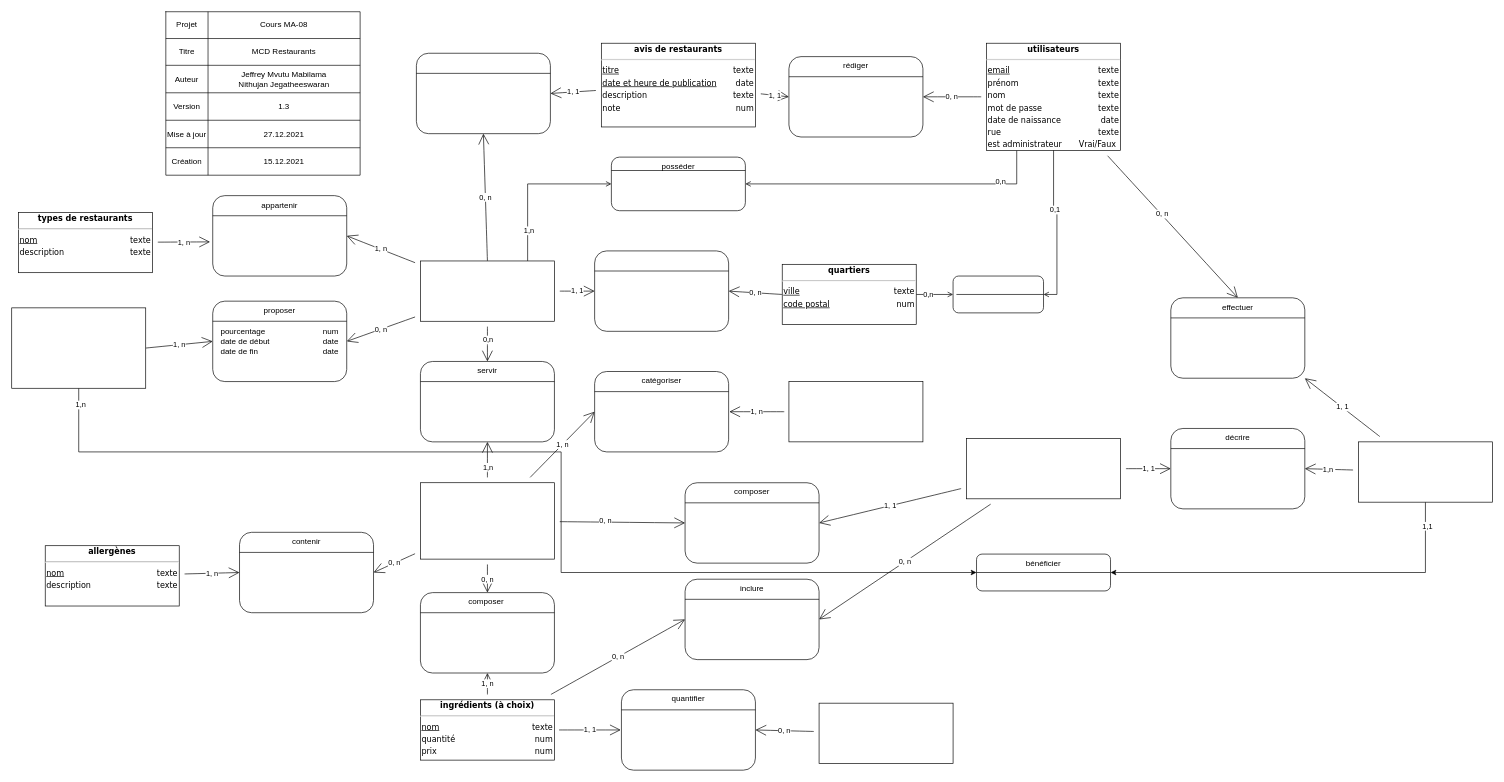
The diagram is 1504 pixels wide and 782 high, and some of its shapes have lost their labels. Each missing label, with the centre of its shape:
commandes numéro de commande texte date et heure texte: the point at 1425,471
concerner: the point at 483,93
détails de commande no de référence num: the point at 1043,468
habiter: the point at 998,294
plats nom texte description texte prix de base num prix soldé num: the point at 487,520
positionnner: the point at 661,290
promotions nom texte: the point at 78,347
restaurants nom texte rue texte horaire régulier texte: the point at 487,290
types de plats nom texte: the point at 855,411
unités de mesure nom texte: the point at 885,732
